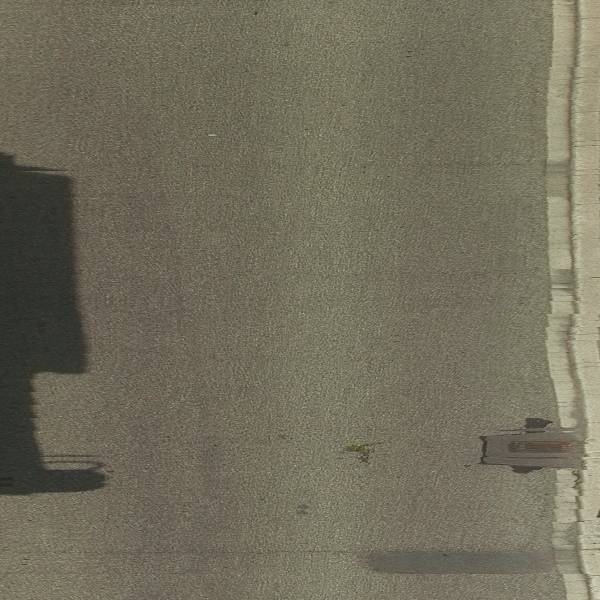road_damage: (351, 537, 548, 585), (468, 417, 553, 476)
